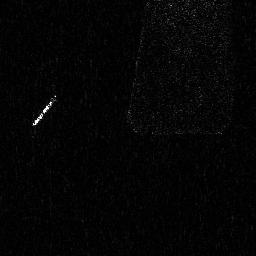ship: (32, 94, 57, 125)
